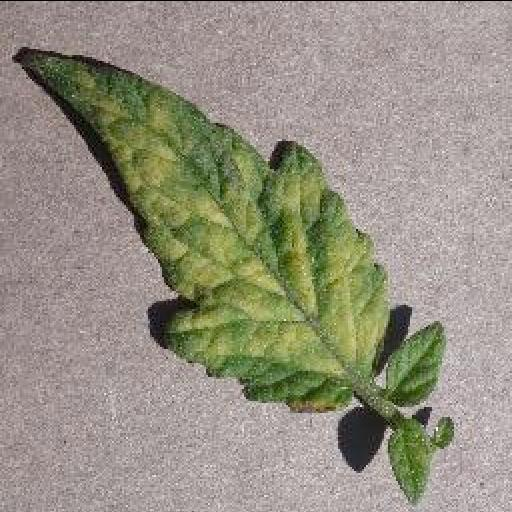disease_tomato: (16, 50, 386, 410)
